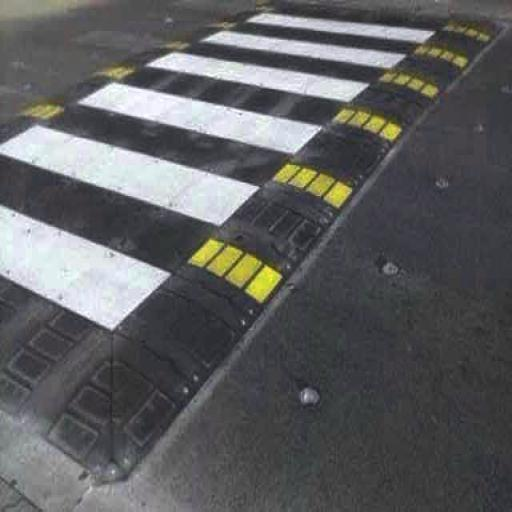crosswalk: (0, 58, 328, 232)
